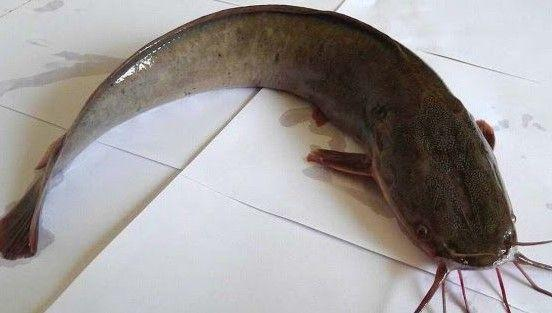Catfish: (0, 2, 532, 292)
